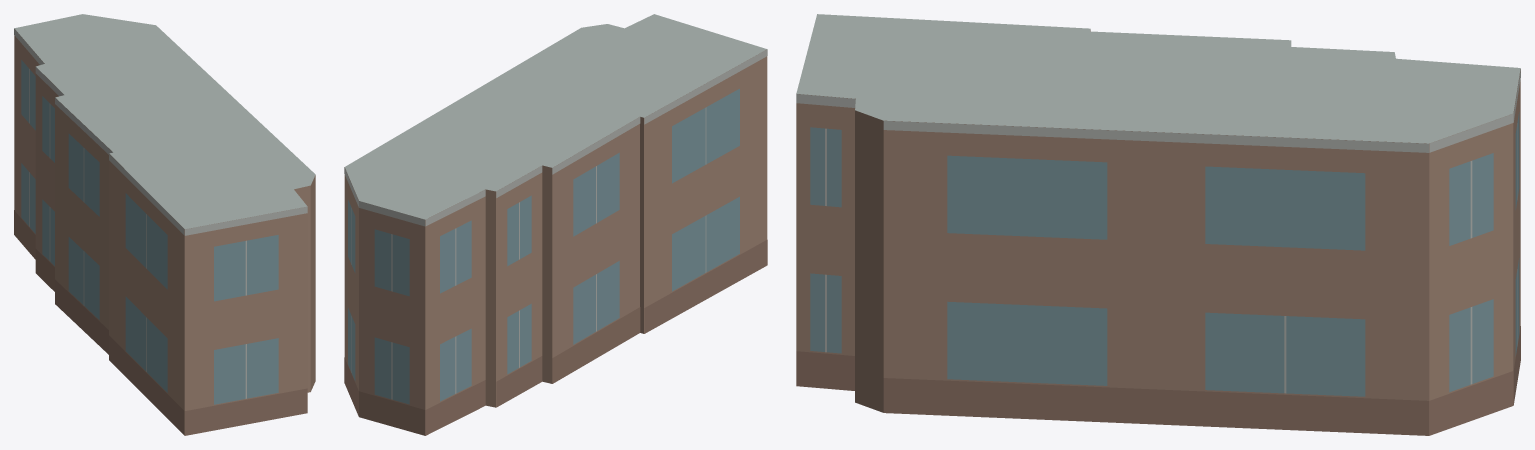
The model's file is survey-upis-32497262.glb.
3 views of the same model, side by side, from view 1: azimuth 30°, elevation 25°; view 2: azimuth 150°, elevation 25°; view 3: azimuth 270°, elevation 25° (orthographic). The views are drawn at different scales.
Parts seen in each view (by area): view 1: survey-upis-32497262.tmp; view 2: survey-upis-32497262.tmp; view 3: survey-upis-32497262.tmp.
Part boxes in pixels (x1,y1,x2,y2): survey-upis-32497262.tmp: (14,14,315,435); survey-upis-32497262.tmp: (344,14,767,435); survey-upis-32497262.tmp: (796,14,1520,435).
Bounding box in the file's own units: 7.23 × 7.6 × 17.08.
